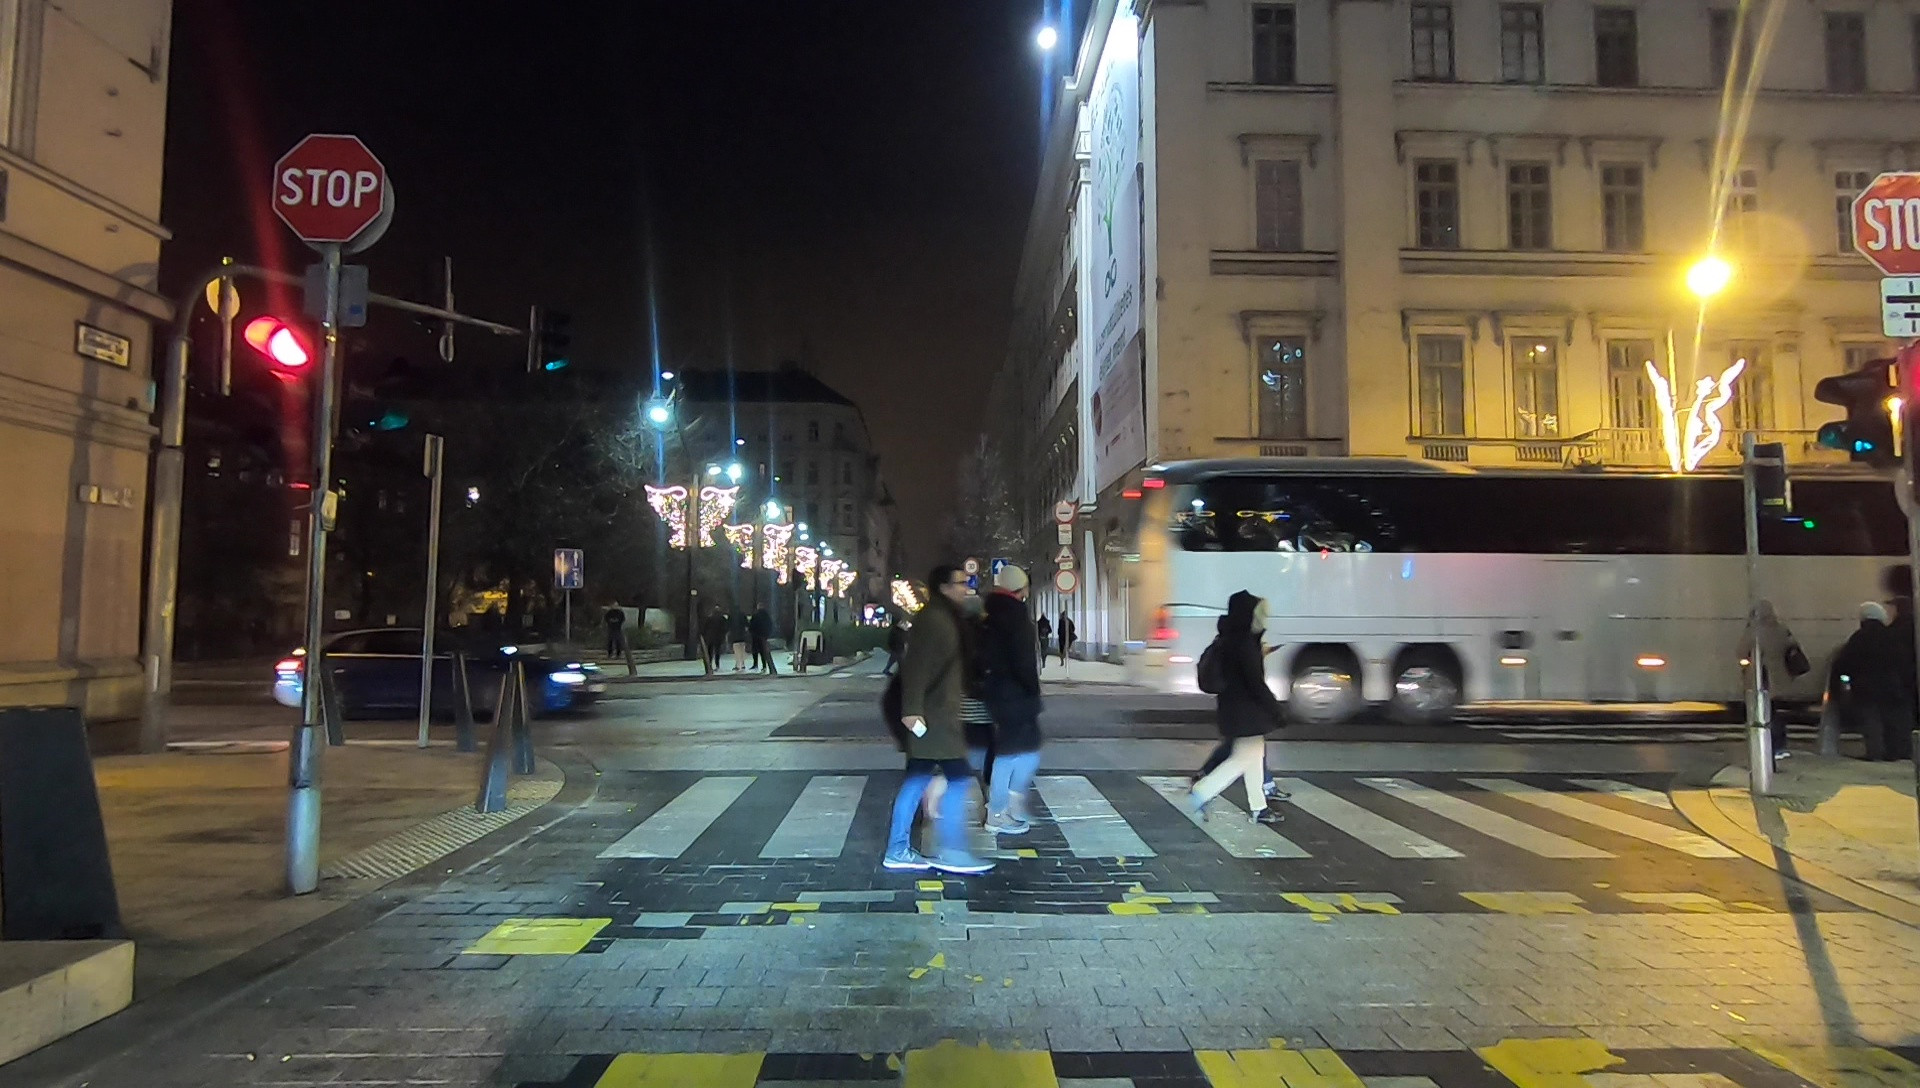person: (888, 563, 973, 876), (1188, 595, 1282, 821), (973, 561, 1043, 834), (1734, 602, 1802, 758), (1838, 599, 1889, 773), (749, 604, 769, 676), (706, 613, 726, 678), (602, 604, 626, 656), (728, 617, 747, 678)
